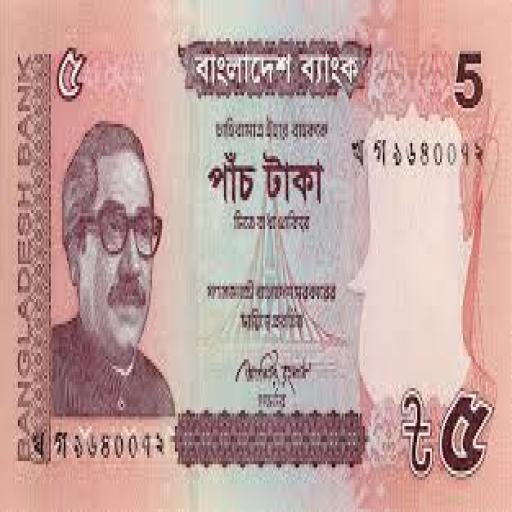5taka: (0, 0, 510, 509)
